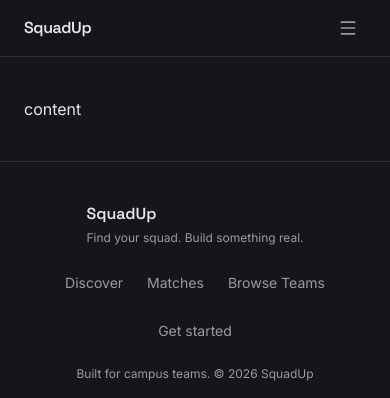
Test case: layout mobile navigation › opens the mobile menu and exposes the nav links
The width and height of the screenshot is (390, 398).
Step 1. Click the button named "Open navigation menu" → (348,28), box [330,10,366,46]
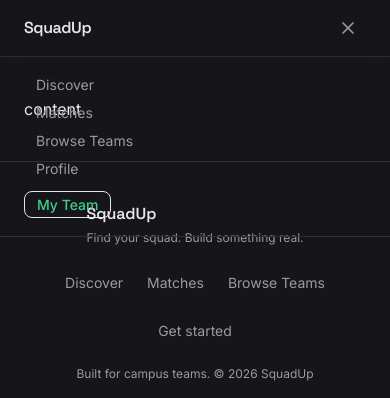
Expected: the navigation bar named "Mobile" is shown, [0,56,389,237]
Expected: the link to "/discover" is shown, [36,76,94,93]
Expected: the link to "/matches" is shown, [36,104,93,121]
